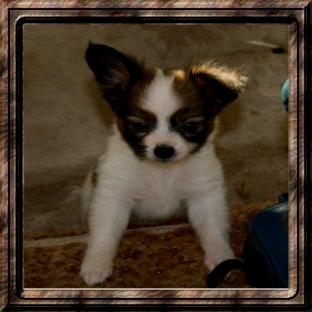Animal: (81, 43, 248, 284)
